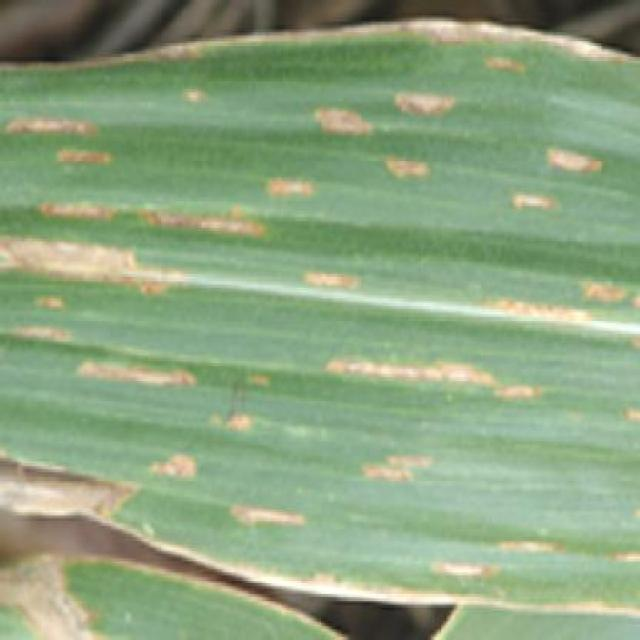Corn_Grey_Leaf_Spot: (0, 20, 640, 615)
